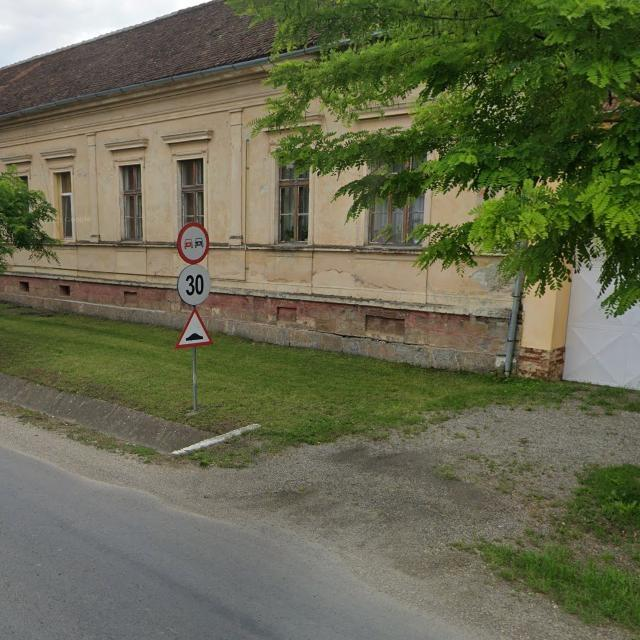forb_overtake: (177, 222, 210, 264)
forb_speed_over_30: (177, 265, 211, 306)
